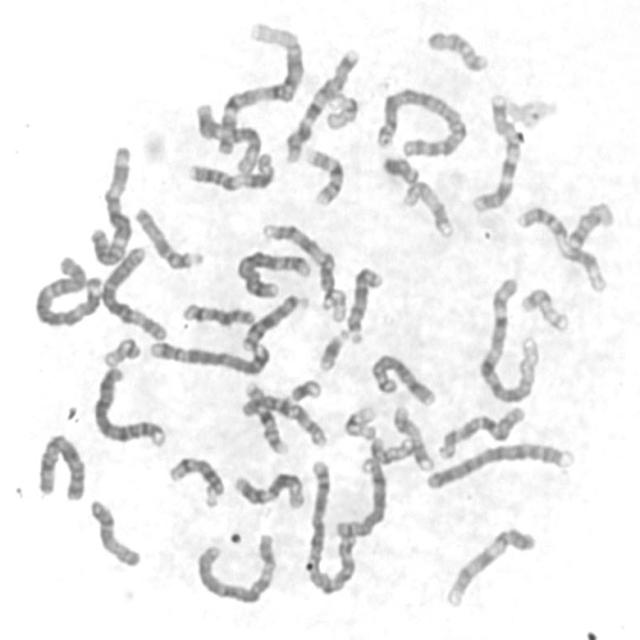A1: (208, 16, 307, 155), (474, 270, 542, 406)
A2: (300, 454, 360, 596), (372, 82, 469, 160)
A3: (85, 139, 137, 267), (30, 250, 104, 328)
B4: (421, 436, 577, 494), (89, 360, 169, 450)
B5: (144, 334, 272, 378), (234, 246, 314, 300)
C10: (432, 400, 528, 463), (238, 386, 330, 449)
C11: (511, 200, 610, 294), (185, 146, 278, 194)
C12: (192, 96, 264, 176), (229, 466, 308, 512)
C6: (96, 240, 170, 343), (192, 528, 280, 606)
C7: (280, 42, 362, 164), (467, 90, 524, 214)
C8: (331, 451, 390, 540), (366, 348, 438, 407)
C9: (442, 522, 538, 610), (258, 218, 341, 312)
D13: (237, 289, 312, 353), (343, 261, 386, 346)
D14: (164, 450, 227, 510), (177, 296, 258, 329)
D15: (130, 201, 206, 272), (84, 494, 144, 570)
E16: (241, 377, 292, 457), (300, 141, 346, 208)
E17: (389, 400, 436, 474), (399, 176, 455, 238)
E18: (422, 24, 492, 74), (566, 200, 616, 251)
F19: (339, 399, 380, 442), (322, 87, 361, 130)
F20: (516, 283, 572, 333), (366, 431, 416, 466)
G21: (314, 322, 352, 373), (285, 373, 324, 404)
G22: (98, 332, 143, 368), (321, 287, 347, 324)
X: (32, 428, 88, 504)
Y: (377, 151, 421, 186)
